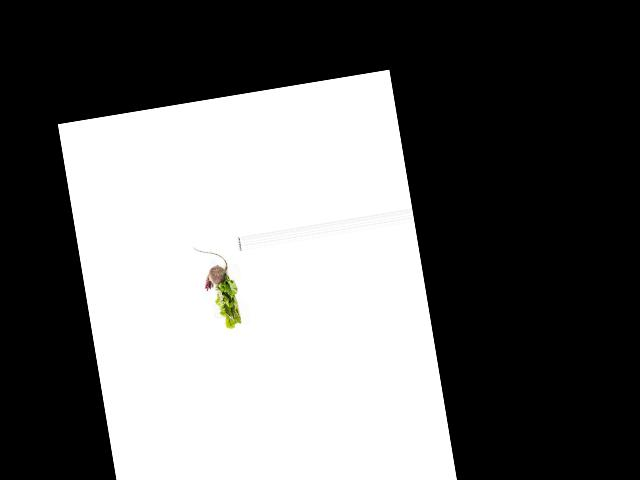beet: (193, 241, 231, 292)
